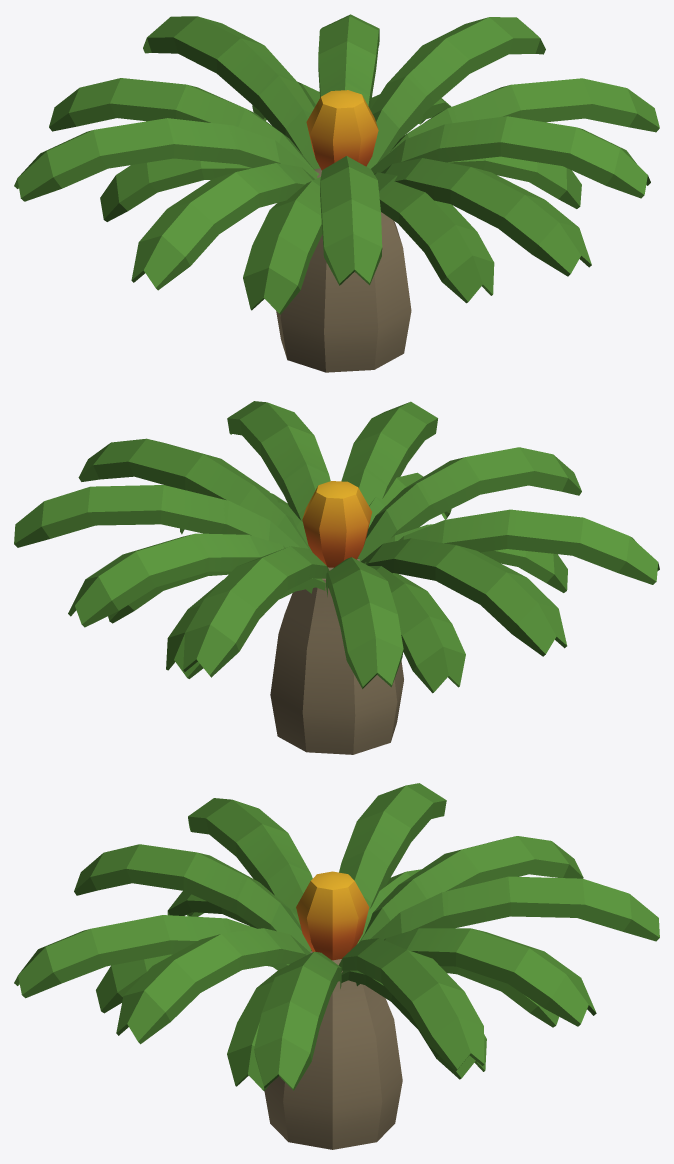
The model's file is Dino_Tree_Cycad_A.fbx.
The picture shows the model from 3 angles, top to bottom: view 1: azimuth 30°, elevation 25°; view 2: azimuth 150°, elevation 25°; view 3: azimuth 270°, elevation 25°; orthographic projection. The views are drawn at different scales.
Parts seen in each view (by area): view 1: Dino_Tree_Cycad_A_mesh; view 2: Dino_Tree_Cycad_A_mesh; view 3: Dino_Tree_Cycad_A_mesh.
Boxes of the visible parts, x1,y1,x2,y2 form: Dino_Tree_Cycad_A_mesh: (14,14,659,372); Dino_Tree_Cycad_A_mesh: (14,401,659,754); Dino_Tree_Cycad_A_mesh: (14,783,659,1149).
Size of the model in its own units: 40.9 by 17.39 by 41.17.
